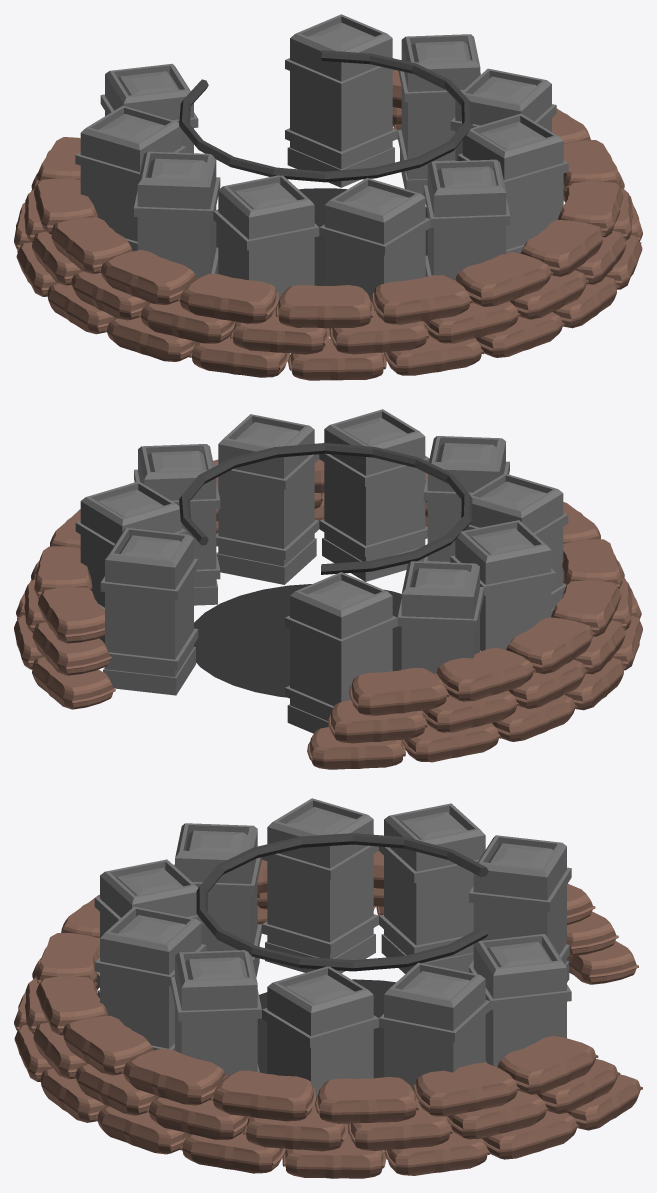
File: breastworkslvl.dae
The picture shows the model from 3 angles, top to bottom: view 1: azimuth 30°, elevation 25°; view 2: azimuth 150°, elevation 25°; view 3: azimuth 270°, elevation 25°; orthographic projection. The views are drawn at different scales.
Parts seen in each view (by area): view 1: Cylinder; view 2: Cylinder; view 3: Cylinder.
Part boxes in pixels (x1,y1,x2,y2): Cylinder: (14,14,642,380); Cylinder: (14,409,642,769); Cylinder: (14,798,642,1178).
Bounding box in the file's own units: 5.2 × 4.94 × 1.24.
